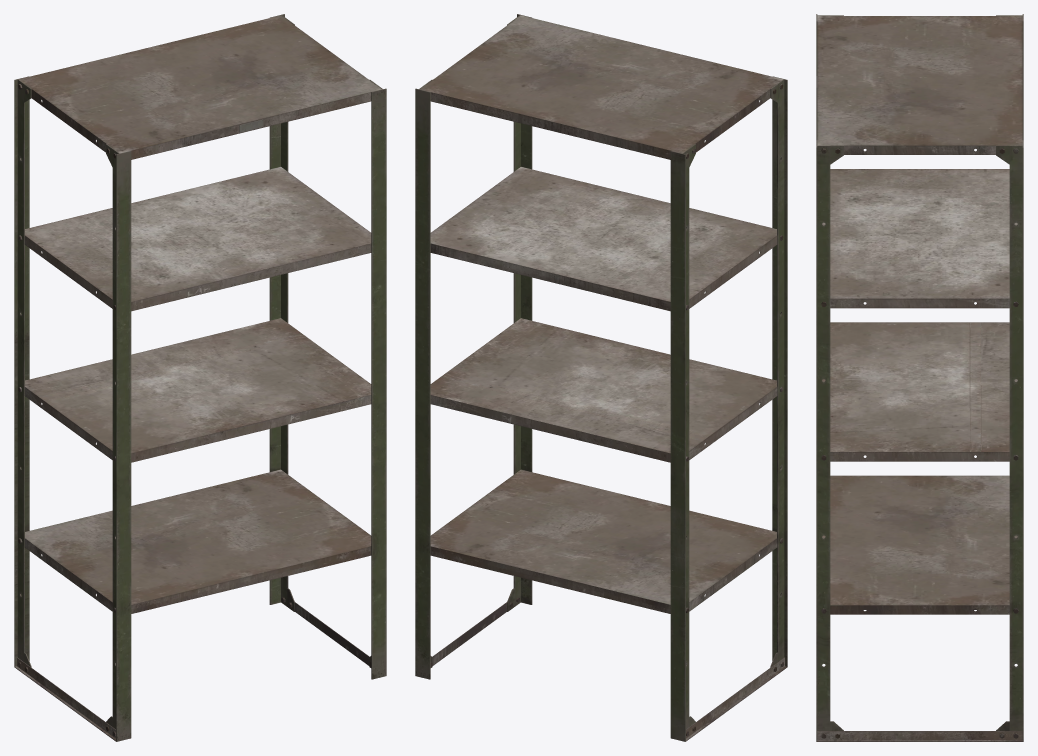
File: ph_metal_rack.glb
3 views of the same model, side by side, from view 1: azimuth 30°, elevation 25°; view 2: azimuth 150°, elevation 25°; view 3: azimuth 270°, elevation 25° (orthographic).
Visible parts, largest first — view 1: worn_metal_rack; view 2: worn_metal_rack; view 3: worn_metal_rack.
Boxes of the visible parts, bbox=[...] form: worn_metal_rack: bbox=[14, 14, 386, 741]; worn_metal_rack: bbox=[415, 14, 787, 741]; worn_metal_rack: bbox=[816, 14, 1023, 741].
Size of the model in its own units: 0.9154 by 1.9 by 0.6.
1 material, 1 textured.
